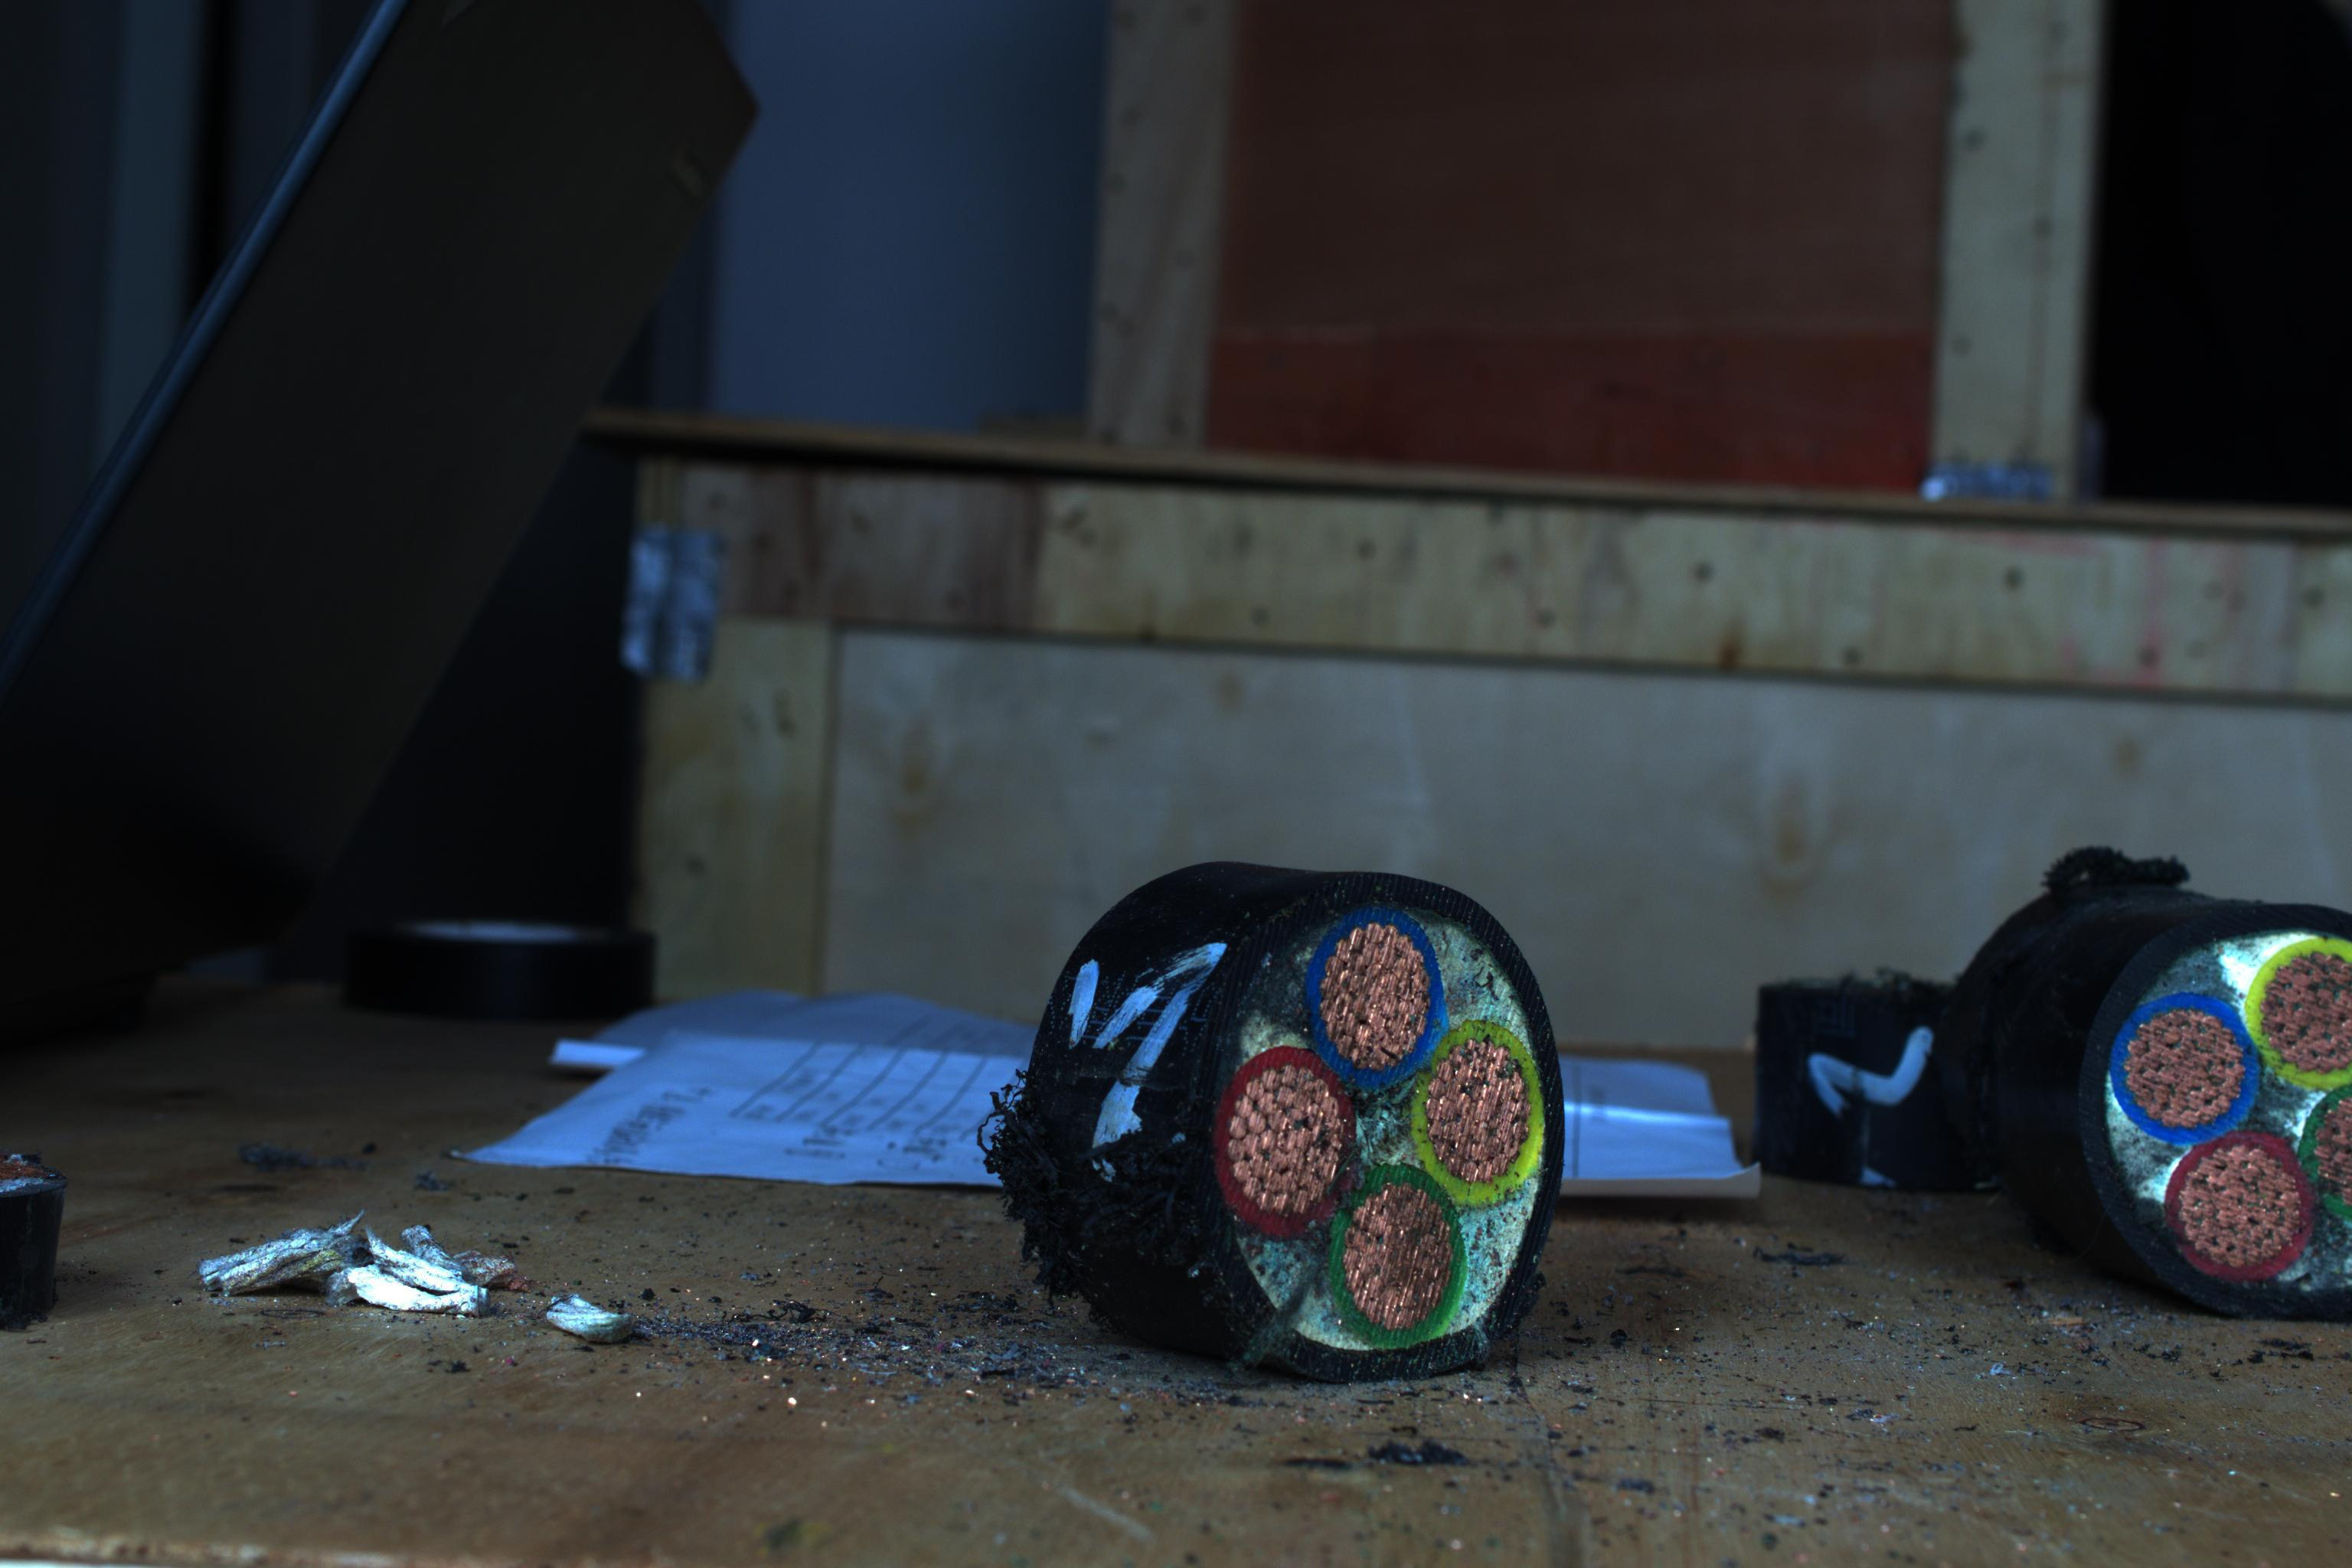YJV_0.6_1kV_4x185: (1087, 882, 1585, 1361)
